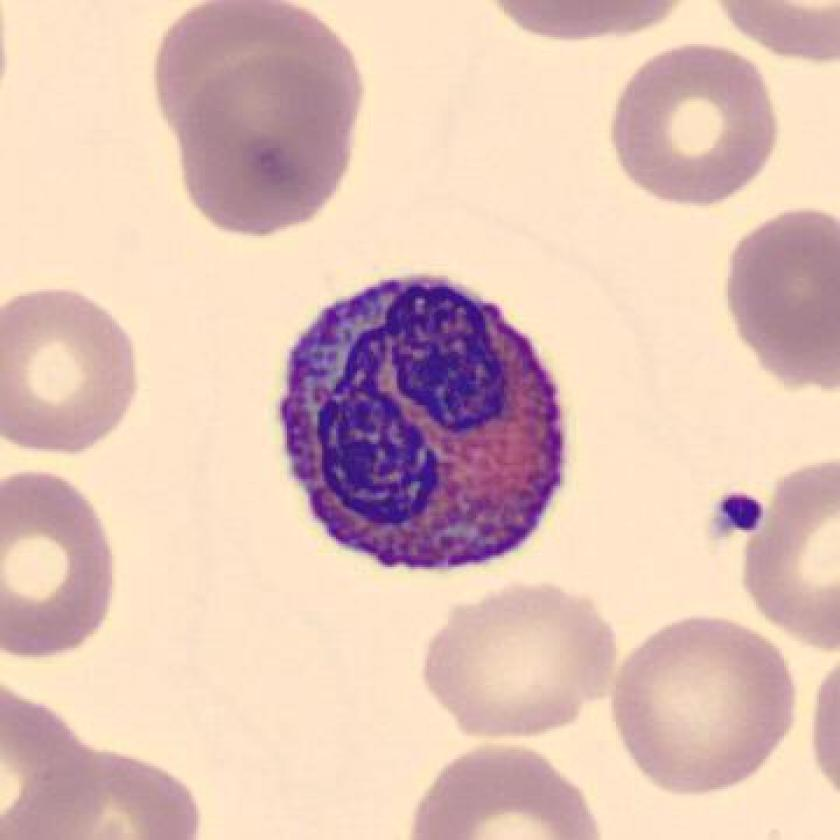eosinophil: (260, 256, 580, 591)
